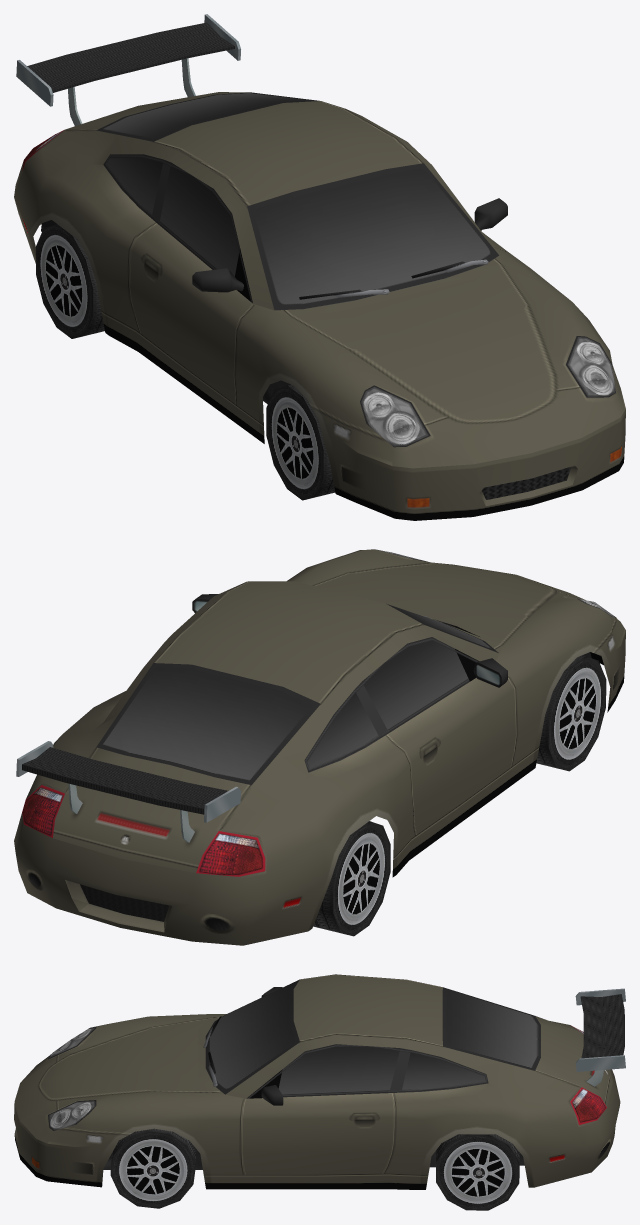
The model's file is HighPerformanceGT_LOD1.fbx.
3 renders of one model, top to bottom at view 1: azimuth 30°, elevation 25°; view 2: azimuth 150°, elevation 25°; view 3: azimuth 270°, elevation 25°, orthographic. The views are drawn at different scales.
Parts seen in each view (by area): view 1: Chassis, RR_Wheel, RF_Wheel; view 2: Chassis, RR_Wheel, RF_Wheel; view 3: Chassis, LF_Wheel, LR_Wheel.
Part boxes in pixels (left/top/right/bottom): Chassis: left=14, top=14, right=625, bottom=520; RR_Wheel: left=36, top=224, right=104, bottom=338; RF_Wheel: left=266, top=384, right=335, bottom=500; Chassis: left=14, top=549, right=625, bottom=945; RR_Wheel: left=313, top=821, right=390, bottom=936; RF_Wheel: left=536, top=655, right=606, bottom=771; Chassis: left=14, top=974, right=625, bottom=1189; LF_Wheel: left=110, top=1128, right=195, bottom=1208; LR_Wheel: left=436, top=1134, right=519, bottom=1210.
Bounding box in the file's own units: 2.4 × 1.62 × 5.64.
Materials: 2 (2 with a texture image).
